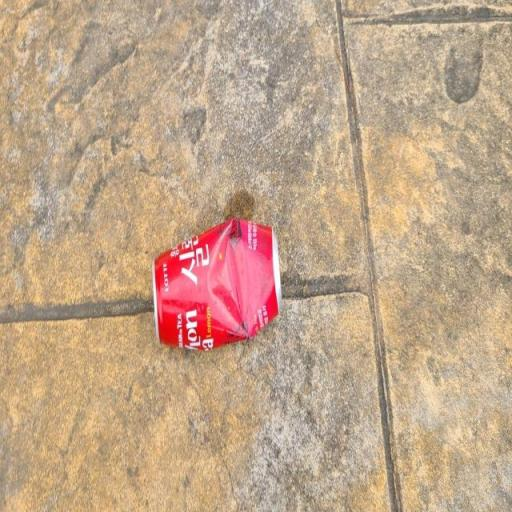metal: (135, 198, 298, 378)
